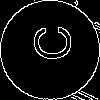C: (25, 25, 71, 61)
